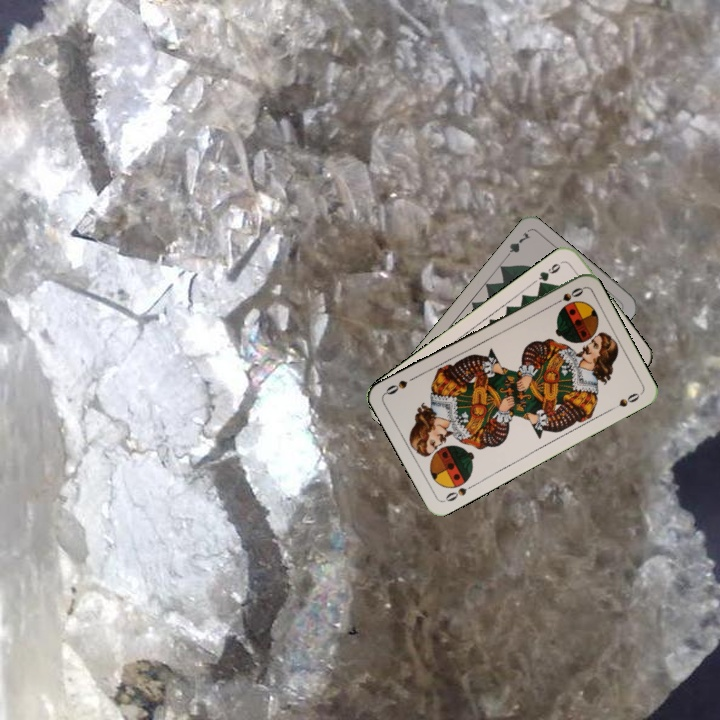G7: (500, 228, 533, 262)
G9: (534, 257, 566, 290)
SO: (548, 283, 586, 309), (440, 480, 477, 505)
